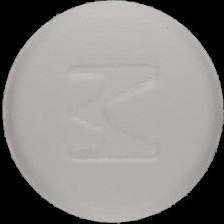0378-3857: (0, 0, 224, 224)
